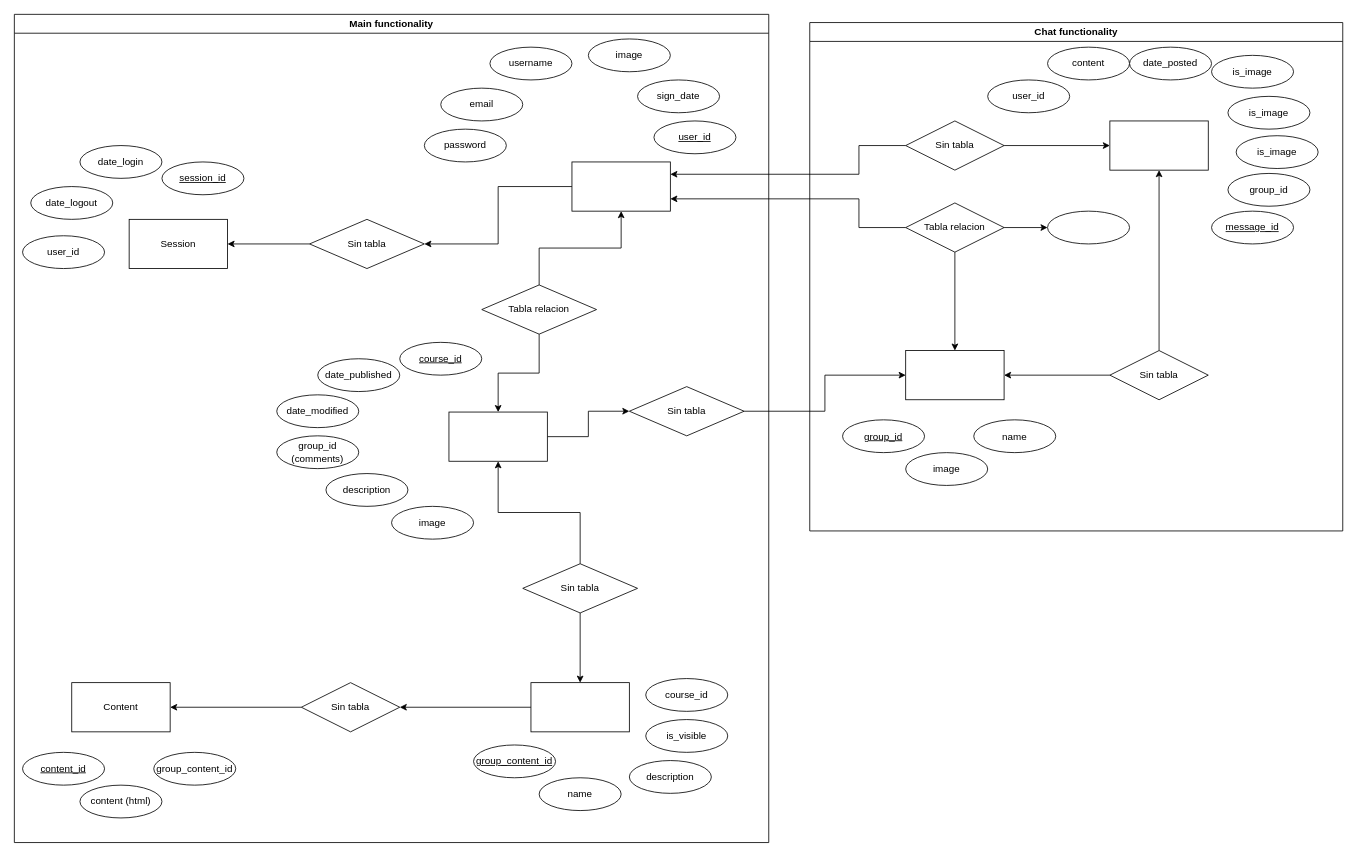
Image size: 1357x857. Some labels were removed from this diagram. The shapes that lost their labels are listed below. From the top down, each one's centre as x and y in pixels, then its label:
At [1158,145]: "Message".
At [620,186]: "User".
At [1088,227]: "join_date".
At [954,375]: "Group".
At [497,436]: "COURSE".
At [579,707]: "CONTENT_GROUP".
